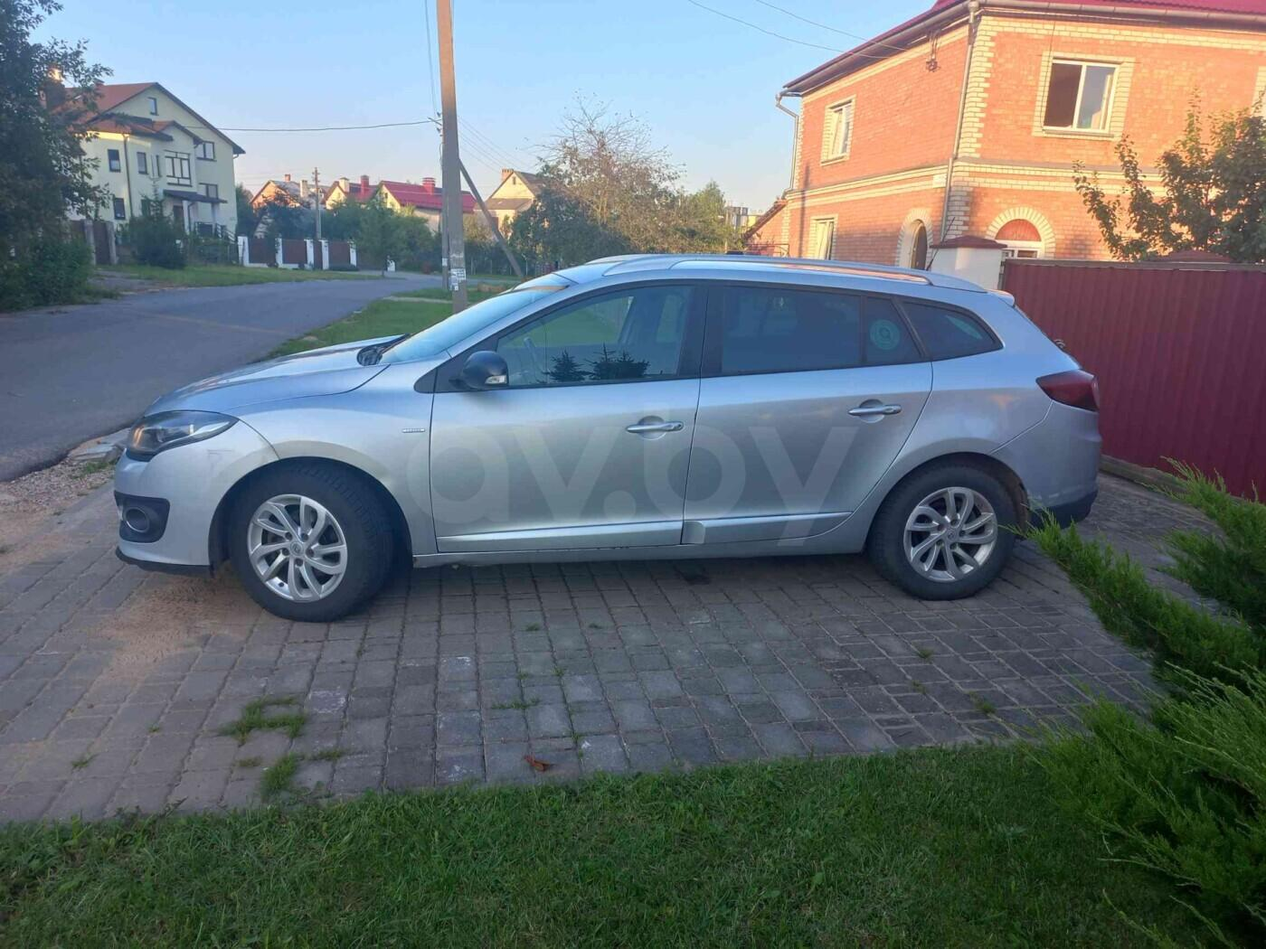Megane_2012-2014: (115, 250, 1105, 634)
